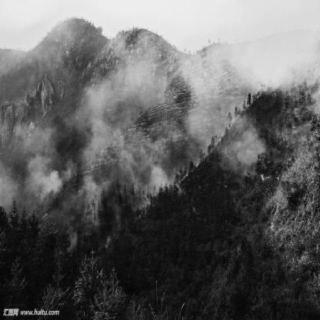Smoke: (86, 85, 124, 157)
